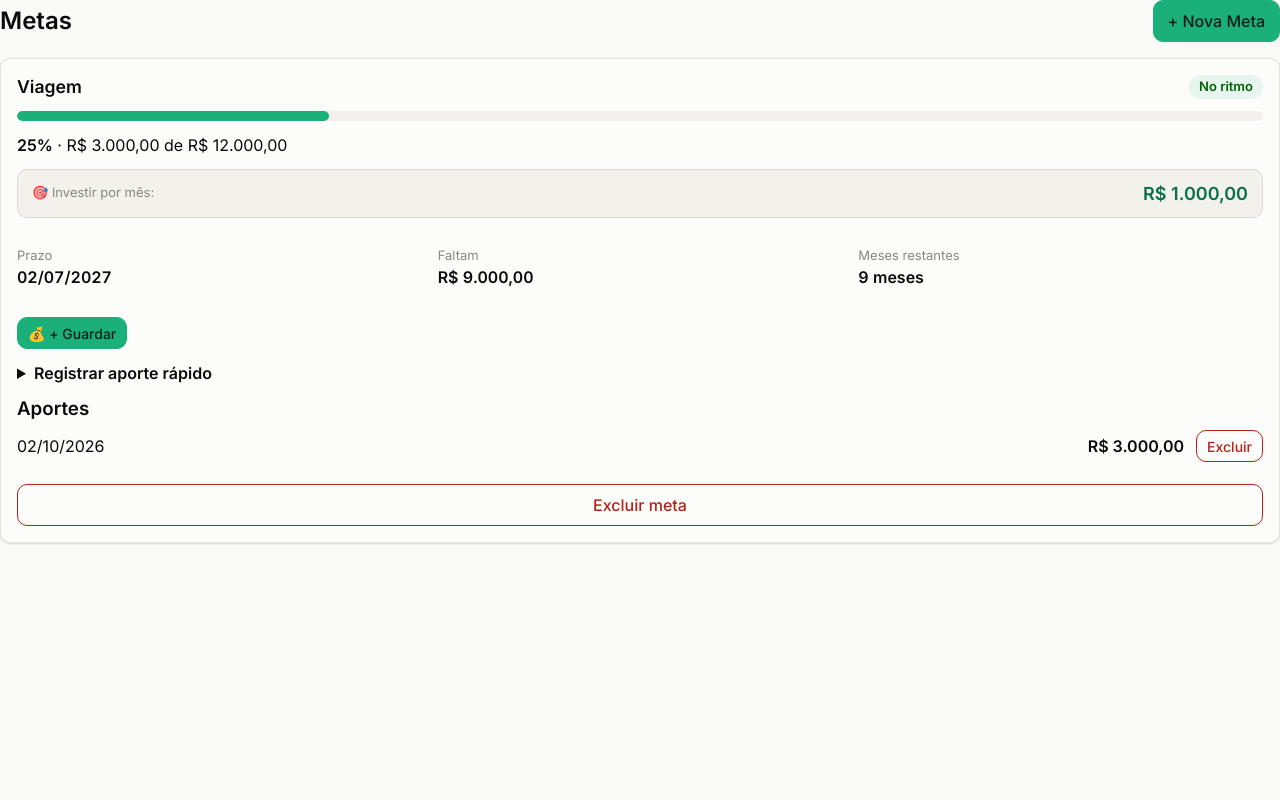
GoalsPage › shows failures when deleting
Step 1. Click the button with aria-label "Excluir meta Viagem" → x=640, y=505, box [17,484,1263,526]
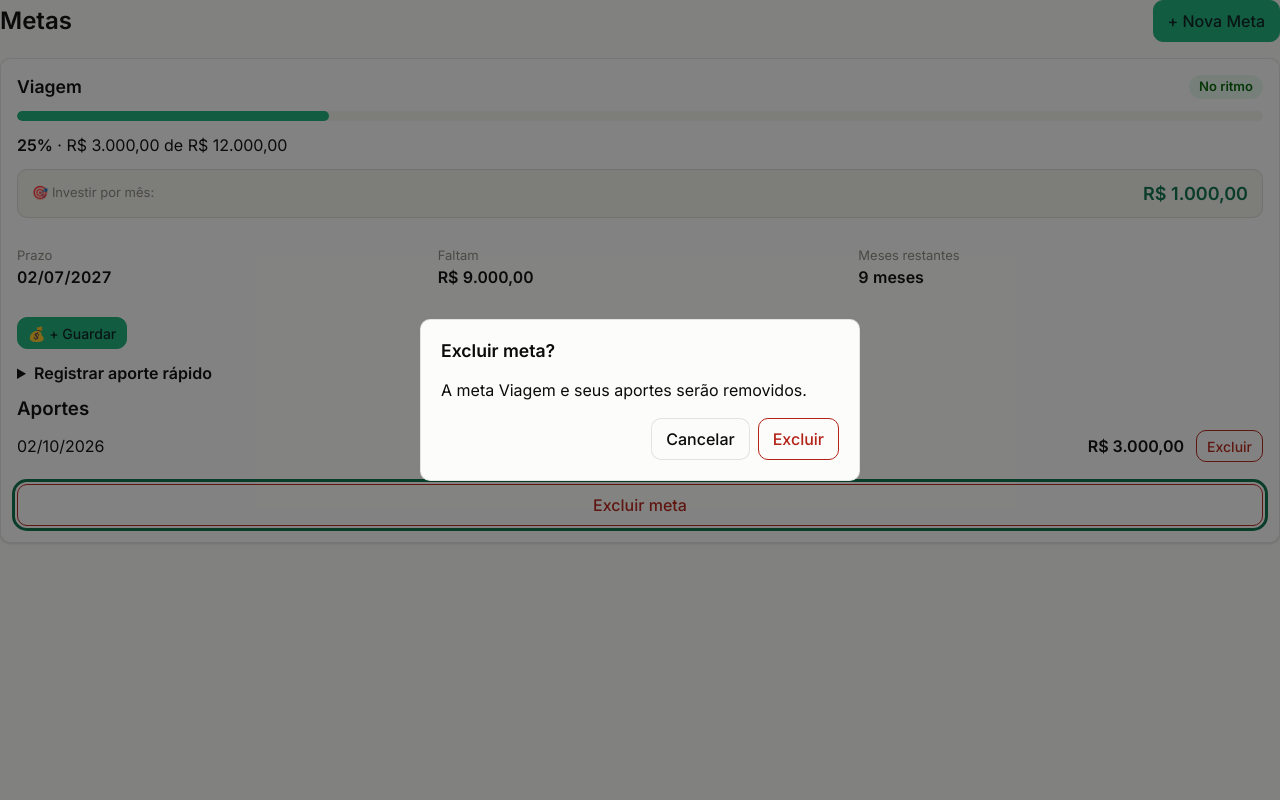
Step 2. Click the button "Excluir" → x=798, y=439, box [758,418,839,460]
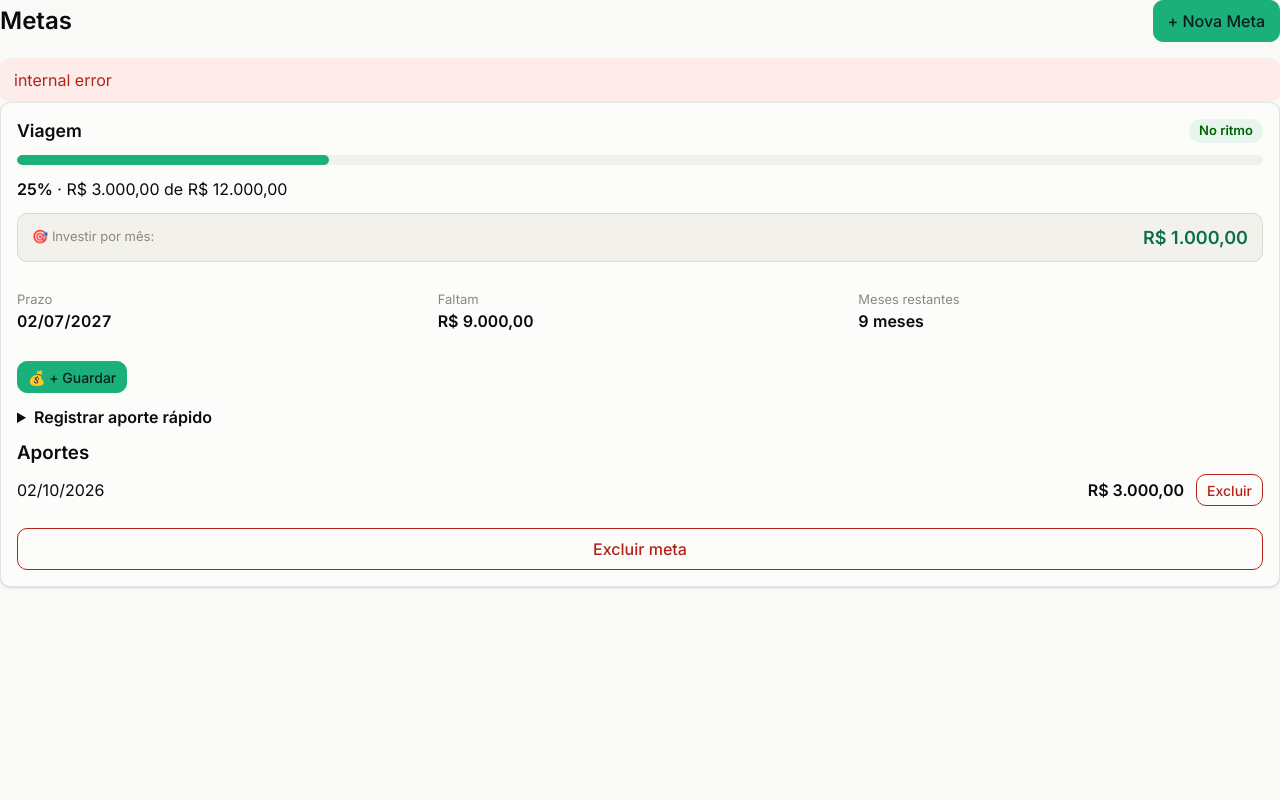
Expected: the text "internal error" is shown, [0,58,1279,102]
